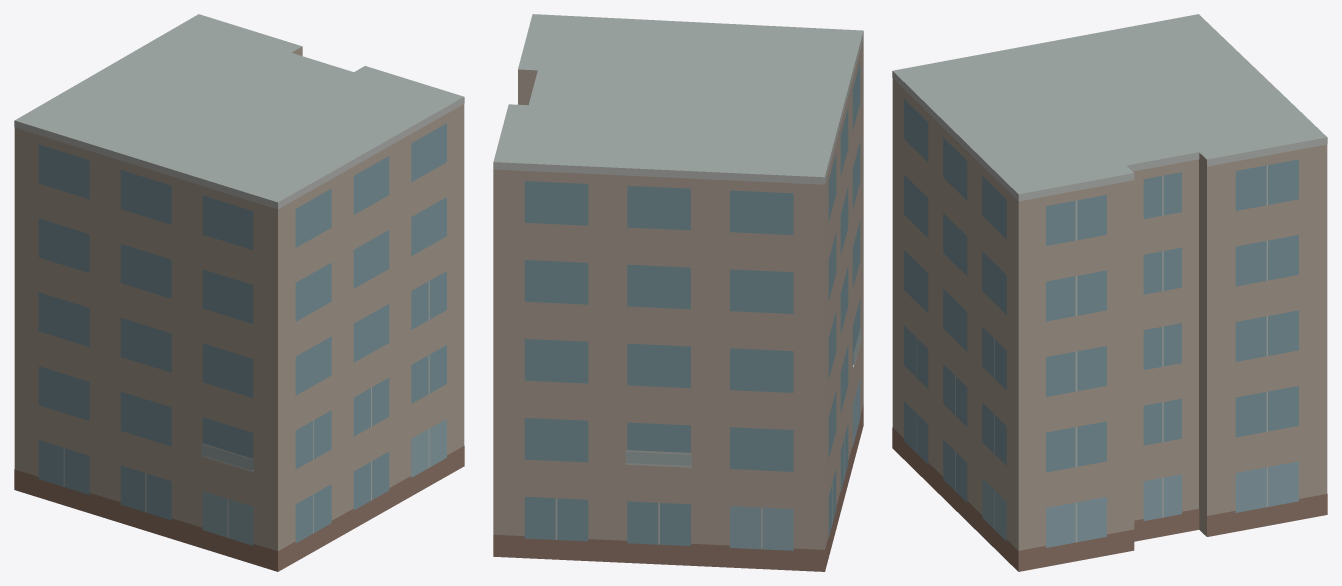
File: survey-upis-32878531.glb
3 renders of one model, left to right at view 1: azimuth 30°, elevation 25°; view 2: azimuth 150°, elevation 25°; view 3: azimuth 270°, elevation 25°, orthographic. The views are drawn at different scales.
Parts seen in each view (by area): view 1: survey-upis-32878531.tmp; view 2: survey-upis-32878531.tmp; view 3: survey-upis-32878531.tmp.
Boxes of the visible parts, bbox=[...] form: survey-upis-32878531.tmp: bbox=[14, 14, 464, 571]; survey-upis-32878531.tmp: bbox=[493, 14, 863, 571]; survey-upis-32878531.tmp: bbox=[892, 14, 1327, 571].
Size of the model in its own units: 13.33 by 13 by 13.59.
